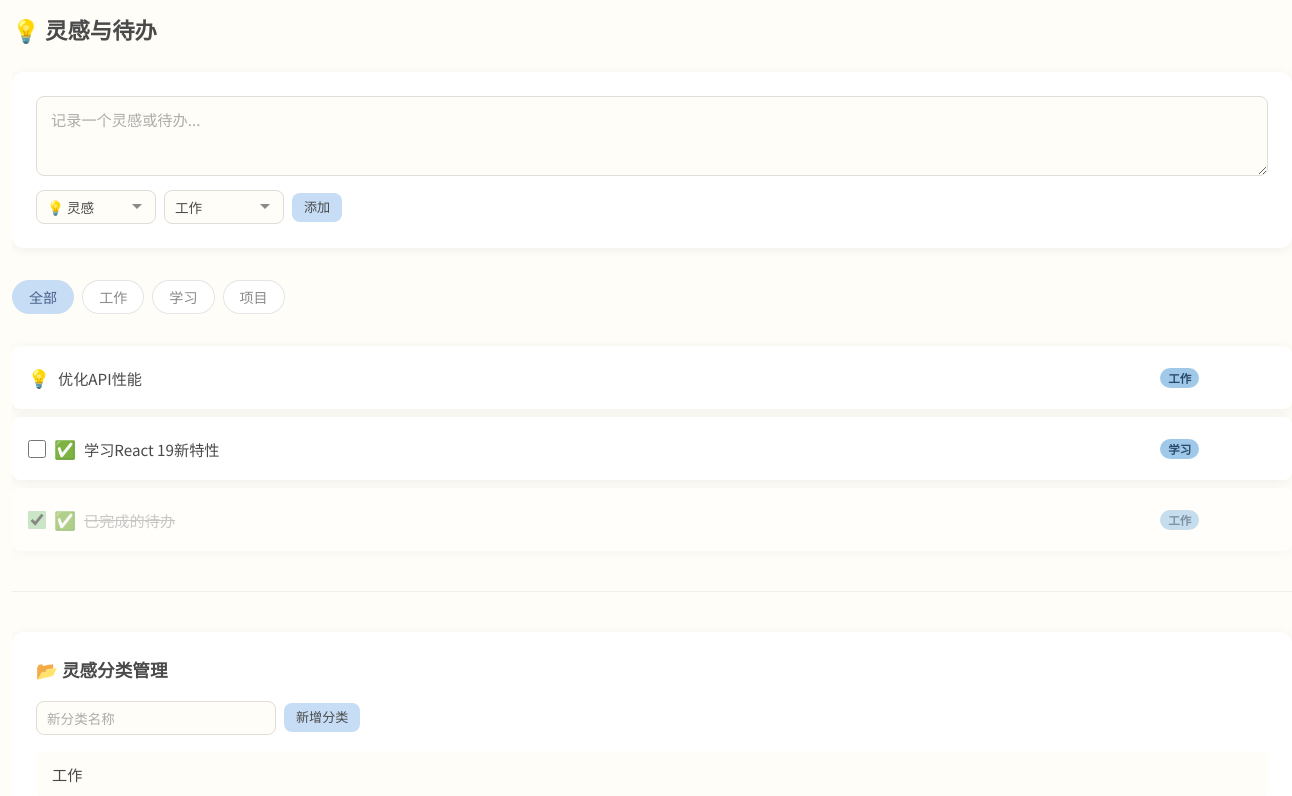
Test: InspirationPage › shows validation error when submitting empty content
What coordinates should you click on to do the following:
click the button "添加"
I would click on:
 (317, 208)
Its box is [292, 193, 342, 222].
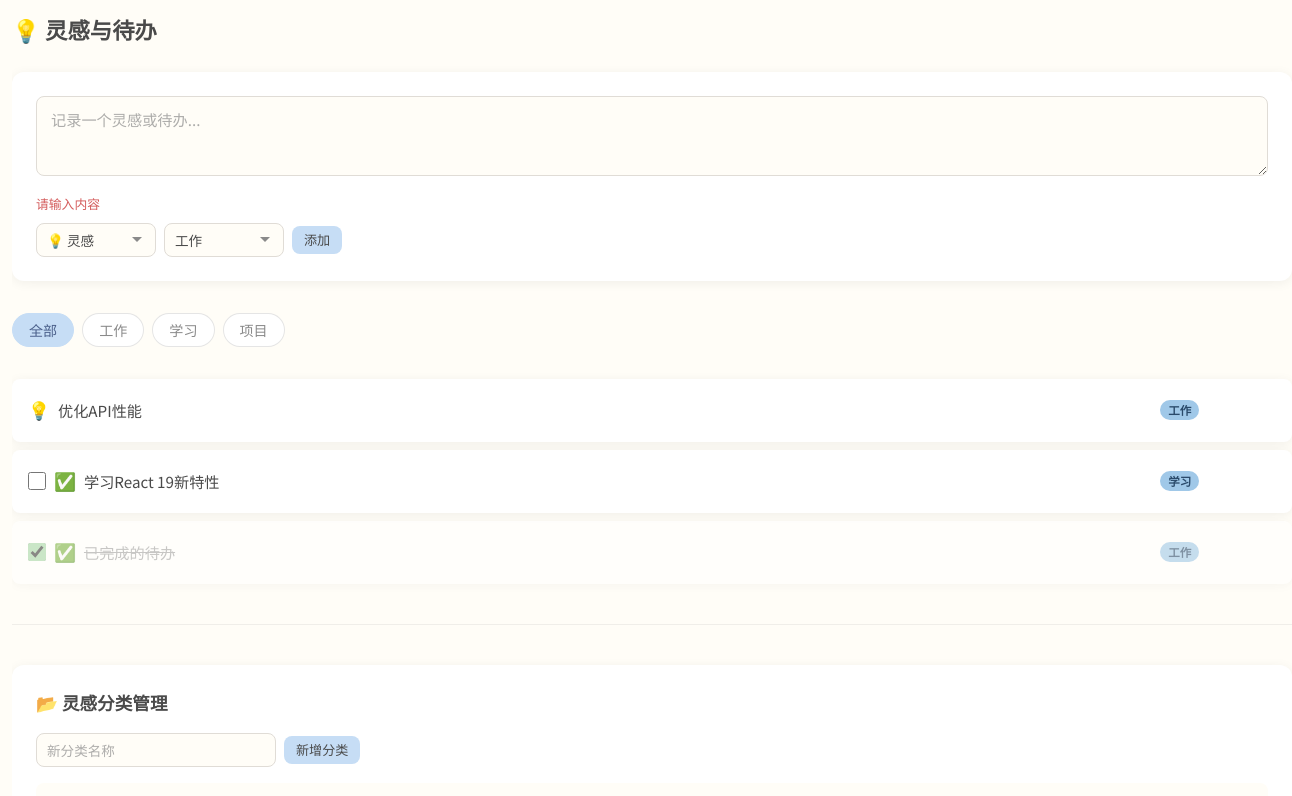
expect the text "请输入内容" is shown: met, box [36, 194, 100, 213]
